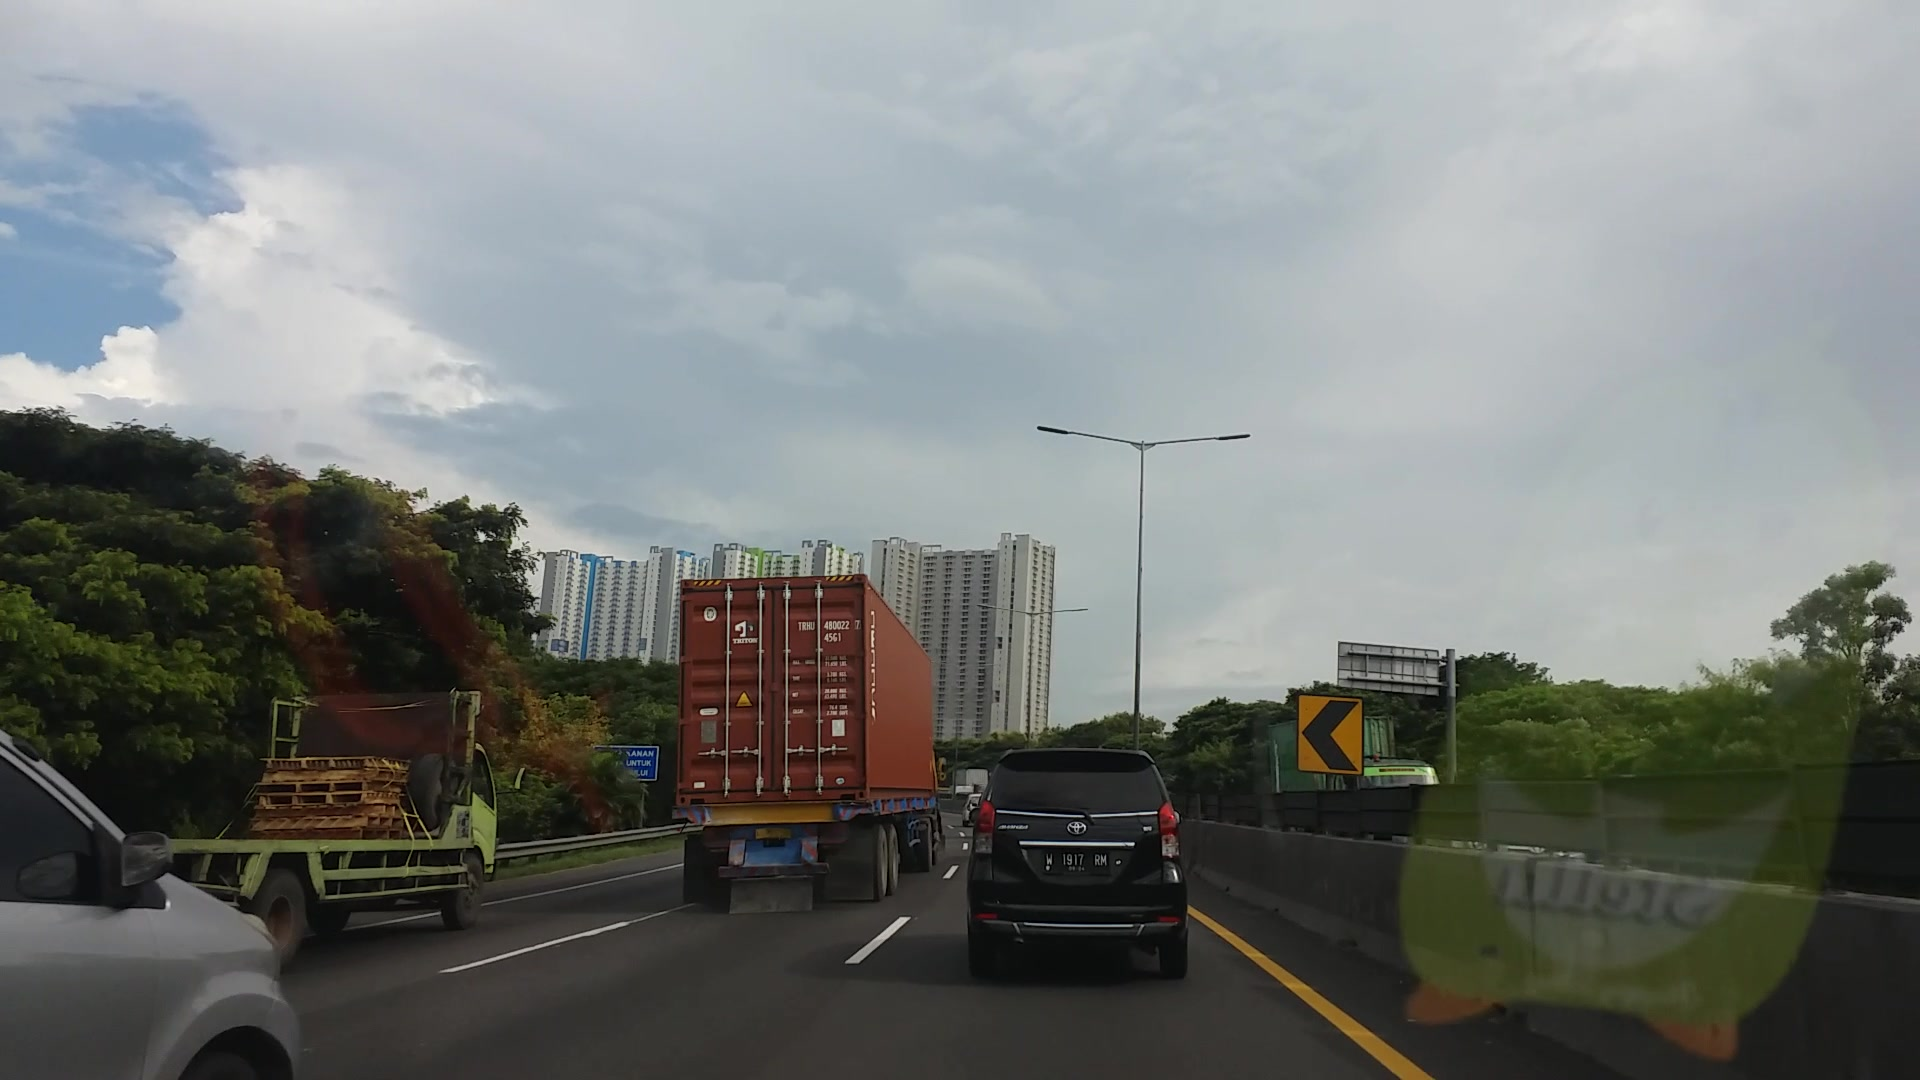plate_positive: (1043, 848, 1110, 874)
